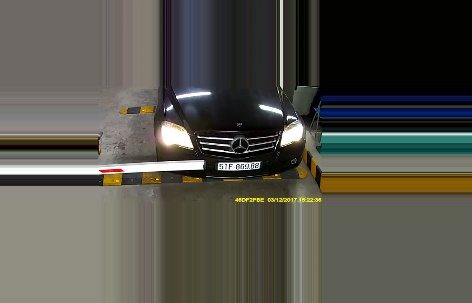plate: (210, 156, 264, 172)
